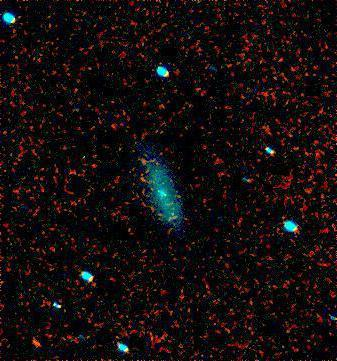star: (19, 327, 49, 357)
